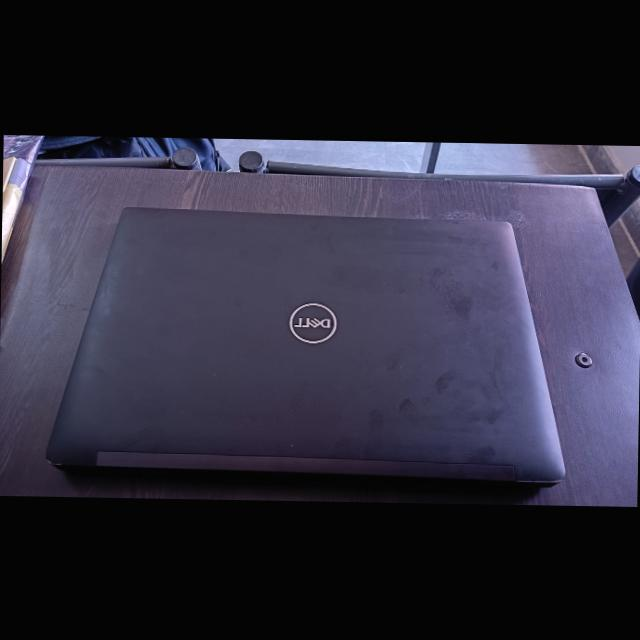laptop: (40, 194, 578, 491)
